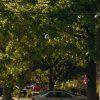Tree: (18, 1, 100, 79)
